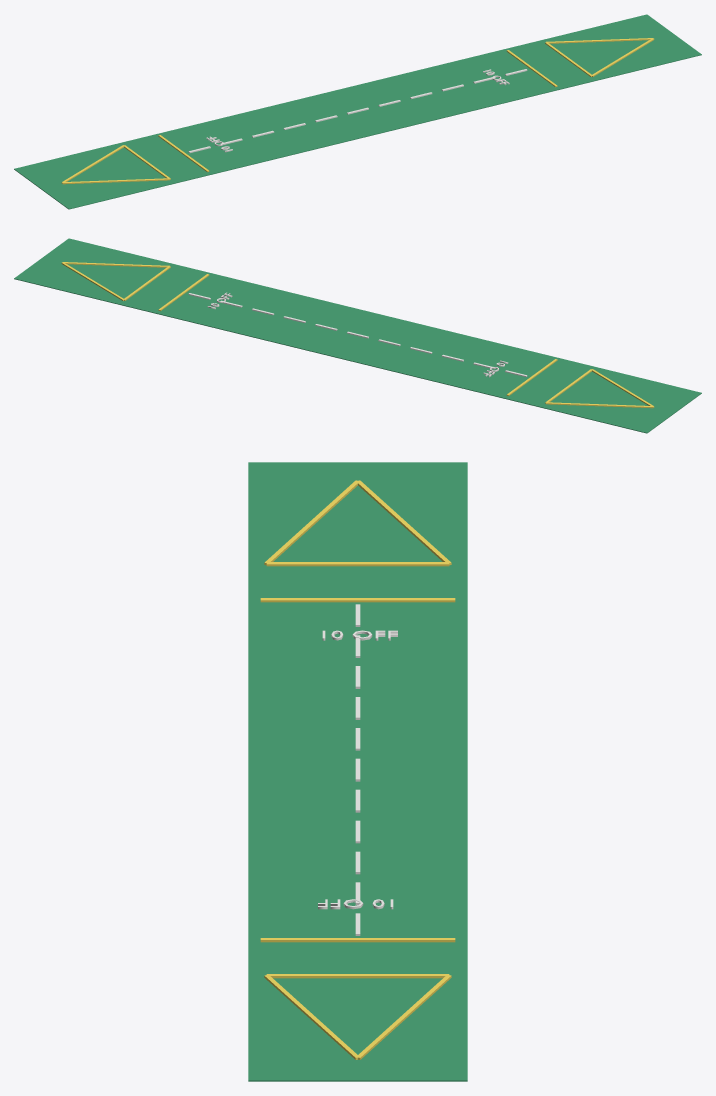
File: CR_Tejo_Pista.fbx
3 renders of one model, top to bottom at view 1: azimuth 30°, elevation 25°; view 2: azimuth 150°, elevation 25°; view 3: azimuth 270°, elevation 25°, orthographic. The views are drawn at different scales.
Parts seen in each view (by area): view 1: CR_Tejo_Pista; view 2: CR_Tejo_Pista; view 3: CR_Tejo_Pista.
Part boxes in pixels (left/top/right/bottom): CR_Tejo_Pista: left=14, top=14, right=701, bottom=209; CR_Tejo_Pista: left=14, top=238, right=701, bottom=433; CR_Tejo_Pista: left=248, top=462, right=467, bottom=1081.
Size of the model in its own units: 12 by 0.035 by 1.8.
